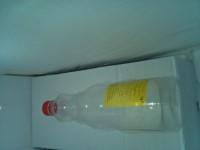bottle: (111, 75, 115, 134)
